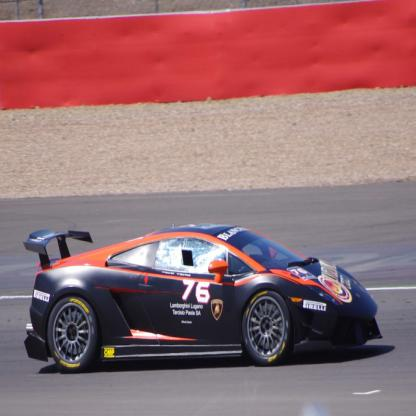Car: (22, 224, 382, 374)
